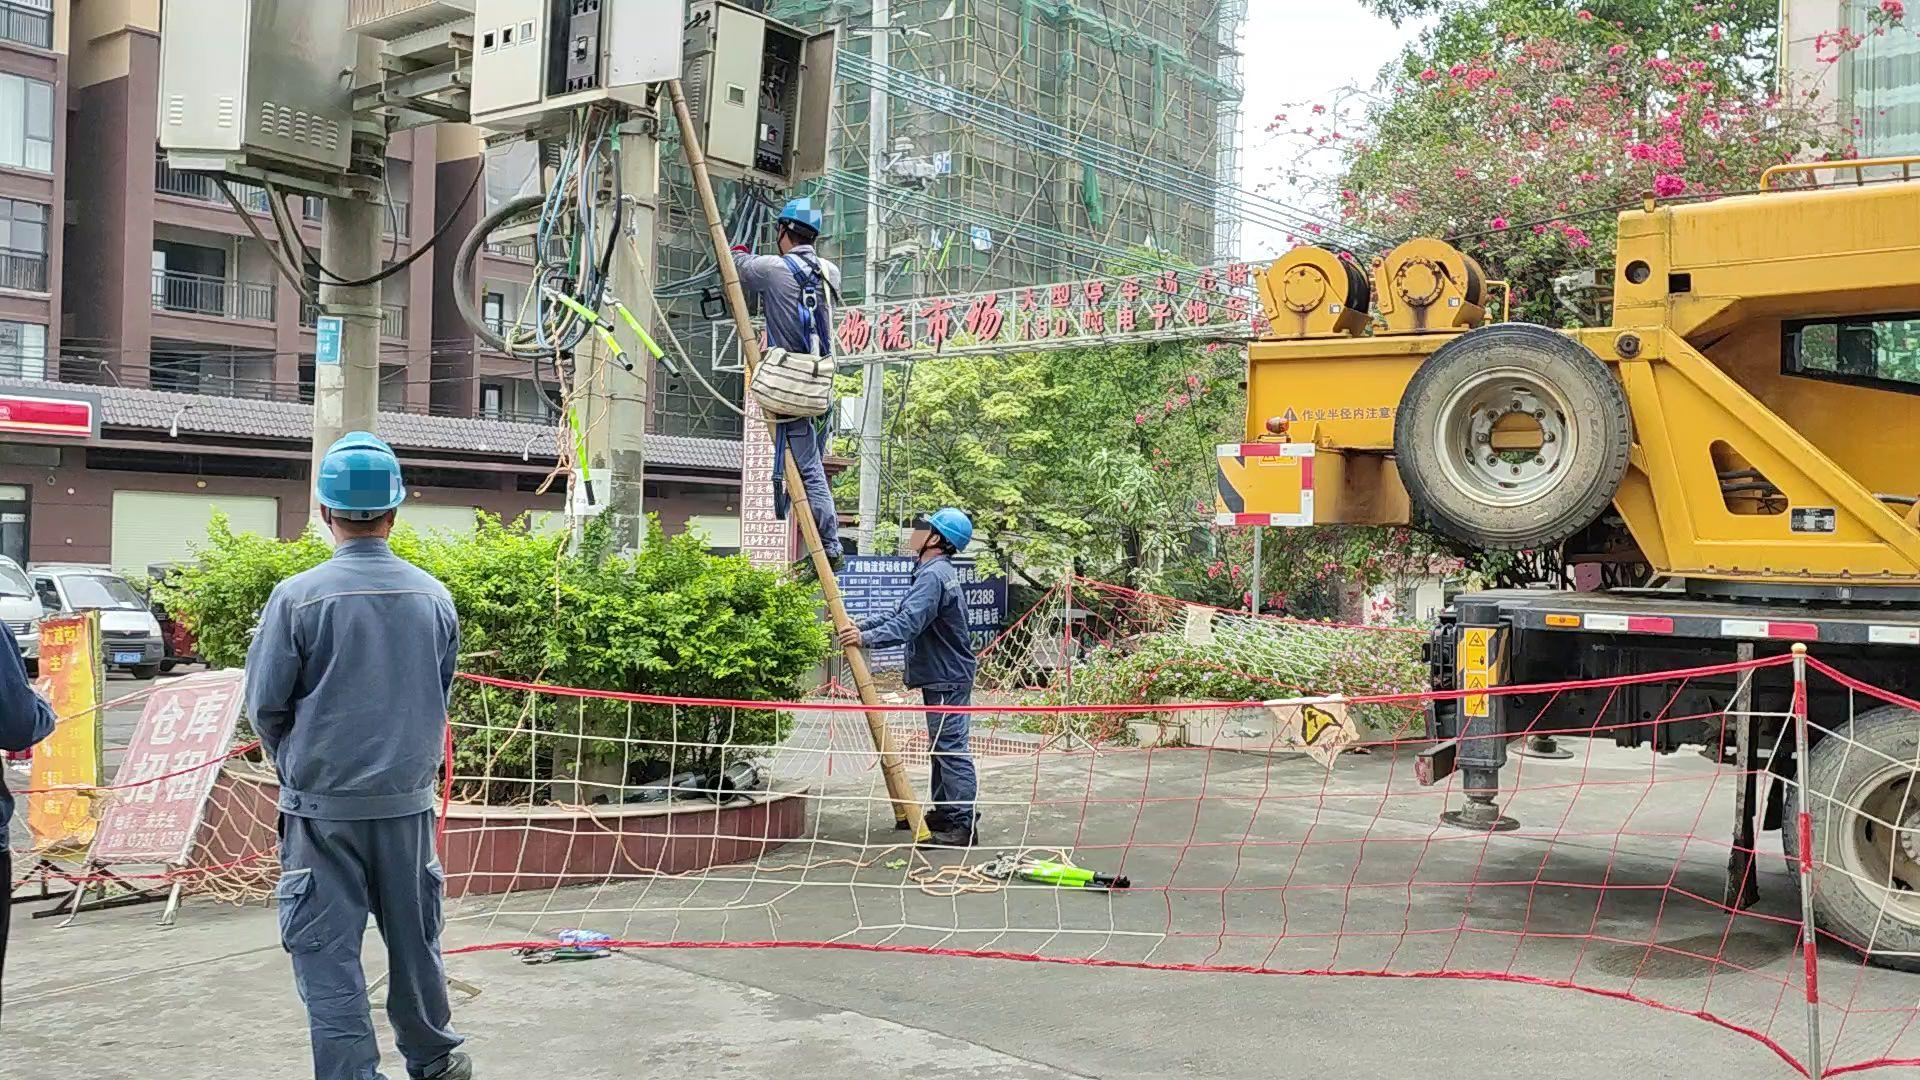halt: (316, 434, 409, 533), (918, 510, 977, 560), (775, 200, 827, 251)
